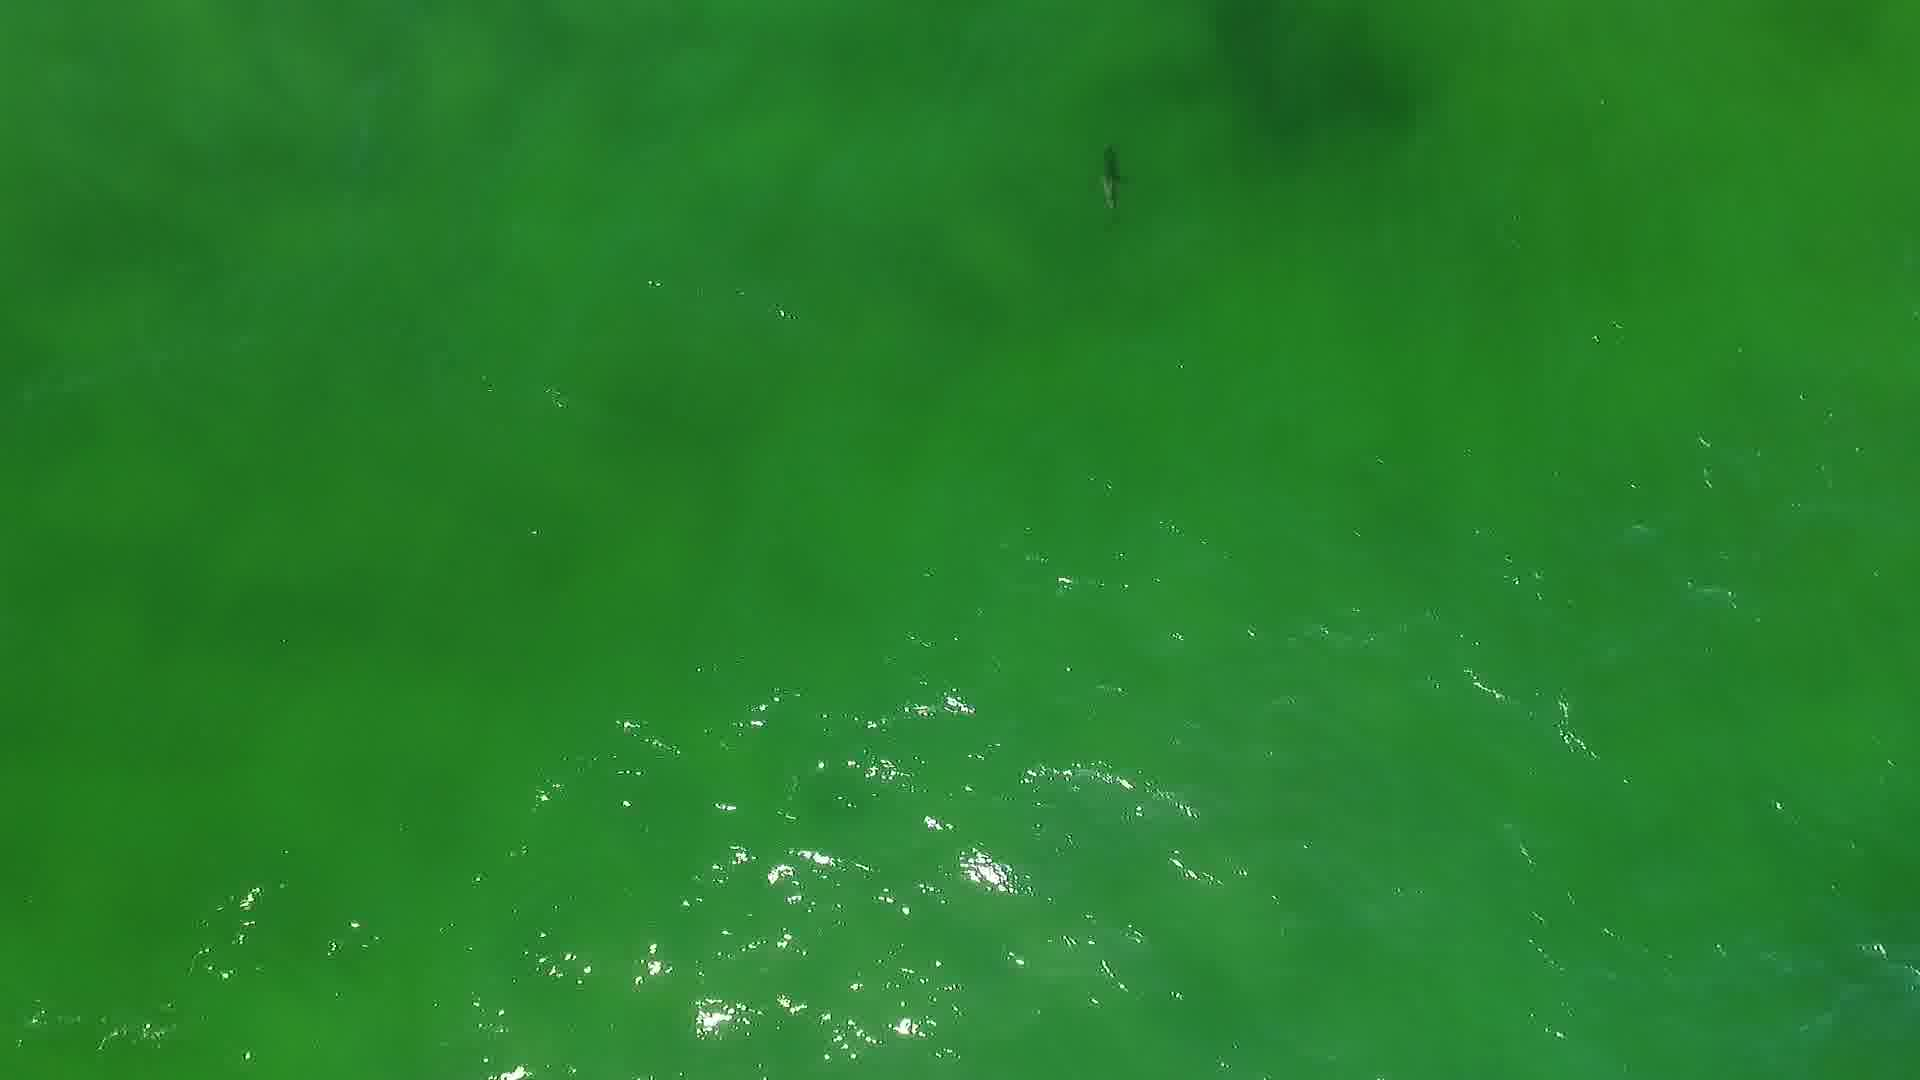shark: (1088, 141, 1139, 211)
